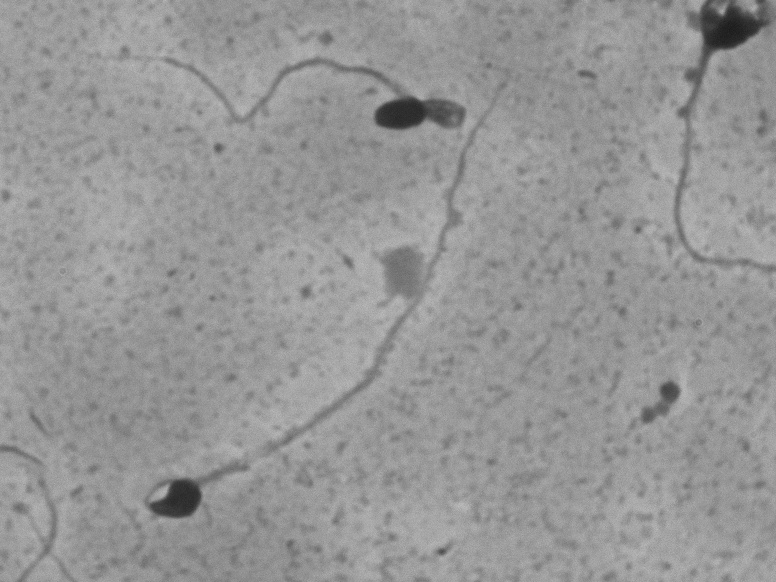Abnormal: (131, 61, 527, 535), (86, 36, 480, 157)
